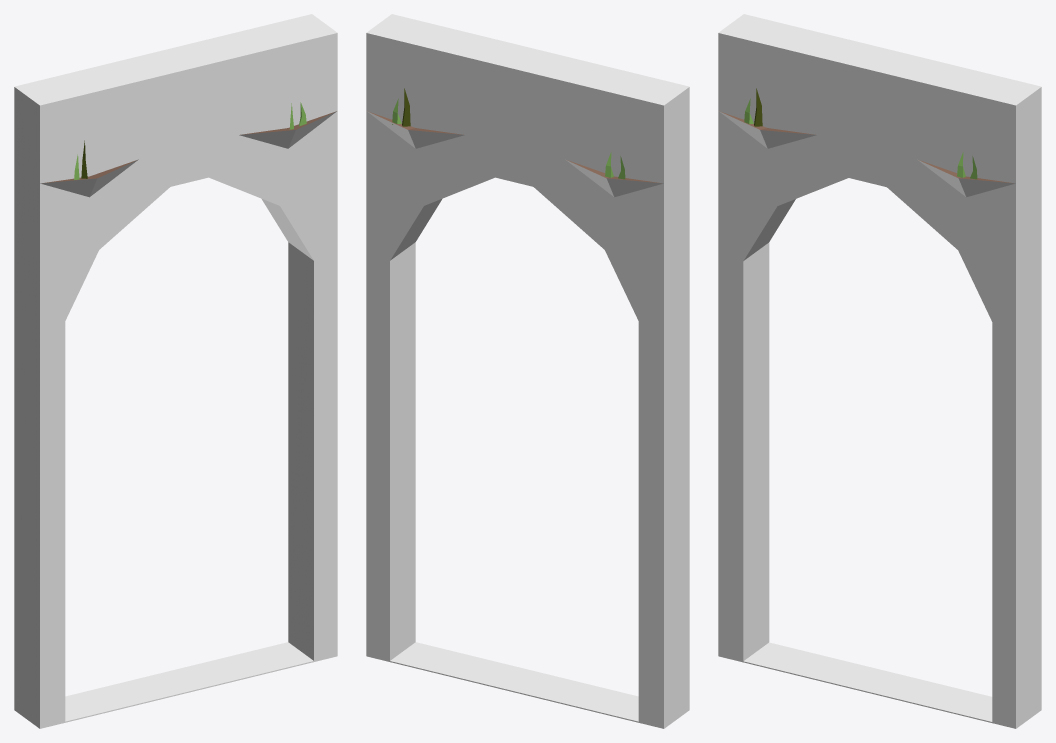
Rendered from PlantDoorframe.glb.
3 views of the same model, side by side, from view 1: azimuth 30°, elevation 25°; view 2: azimuth 150°, elevation 25°; view 3: azimuth 330°, elevation 25° (orthographic).
Visible parts, largest first — view 1: wall_plant_door; view 2: wall_plant_door; view 3: wall_plant_door.
Boxes of the visible parts, x1=… form: wall_plant_door: x1=14, y1=14, x2=337, y2=728; wall_plant_door: x1=366, y1=14, x2=689, y2=728; wall_plant_door: x1=718, y1=14, x2=1041, y2=728.
Size of what is drawn, in the model's own units: 2 by 4 by 0.4811.
1 material, 1 textured.
